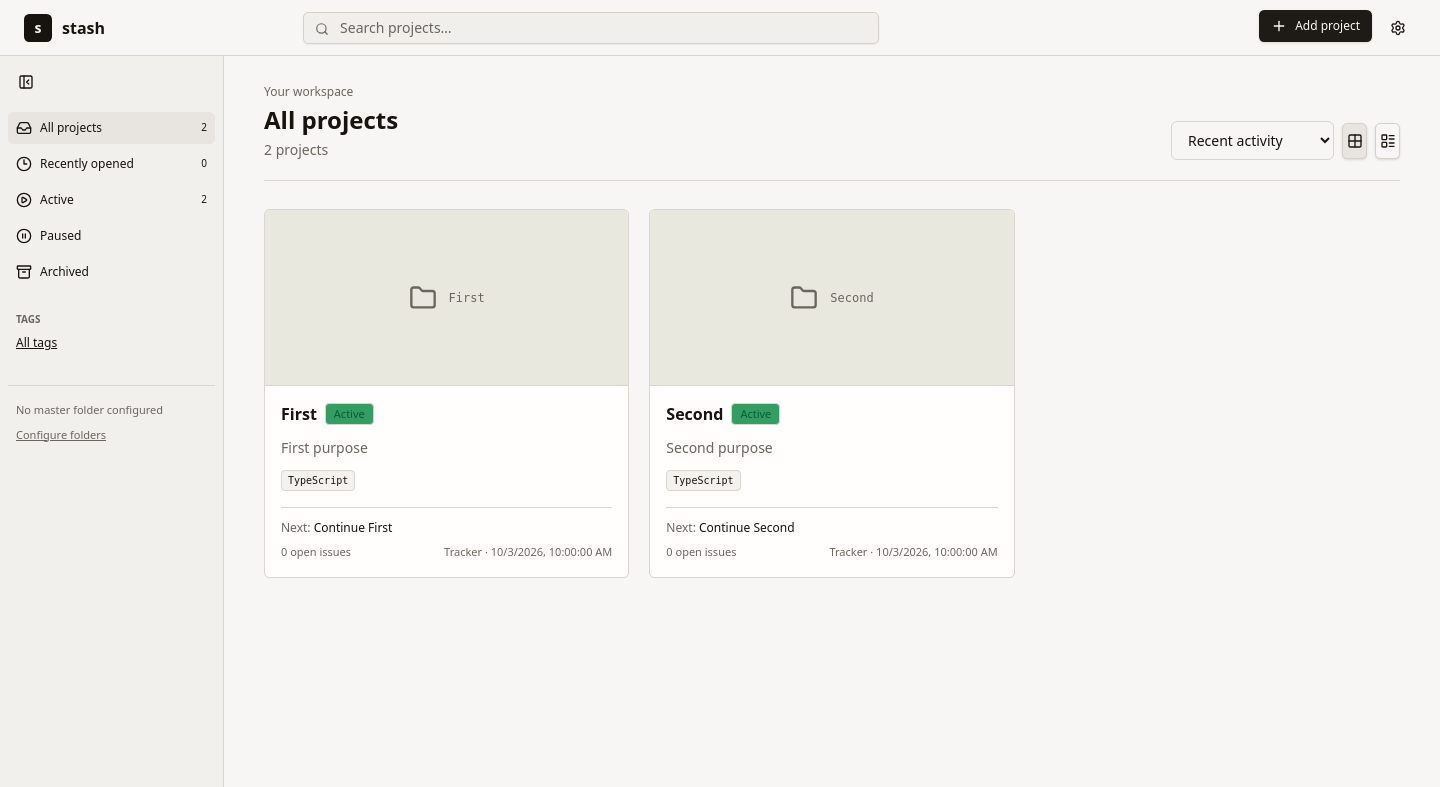
Test: Real workspace workflow › loads documentation scoped to the selected project
Click the button that starts with "Second" at (832, 298), box [649,209,1015,578]
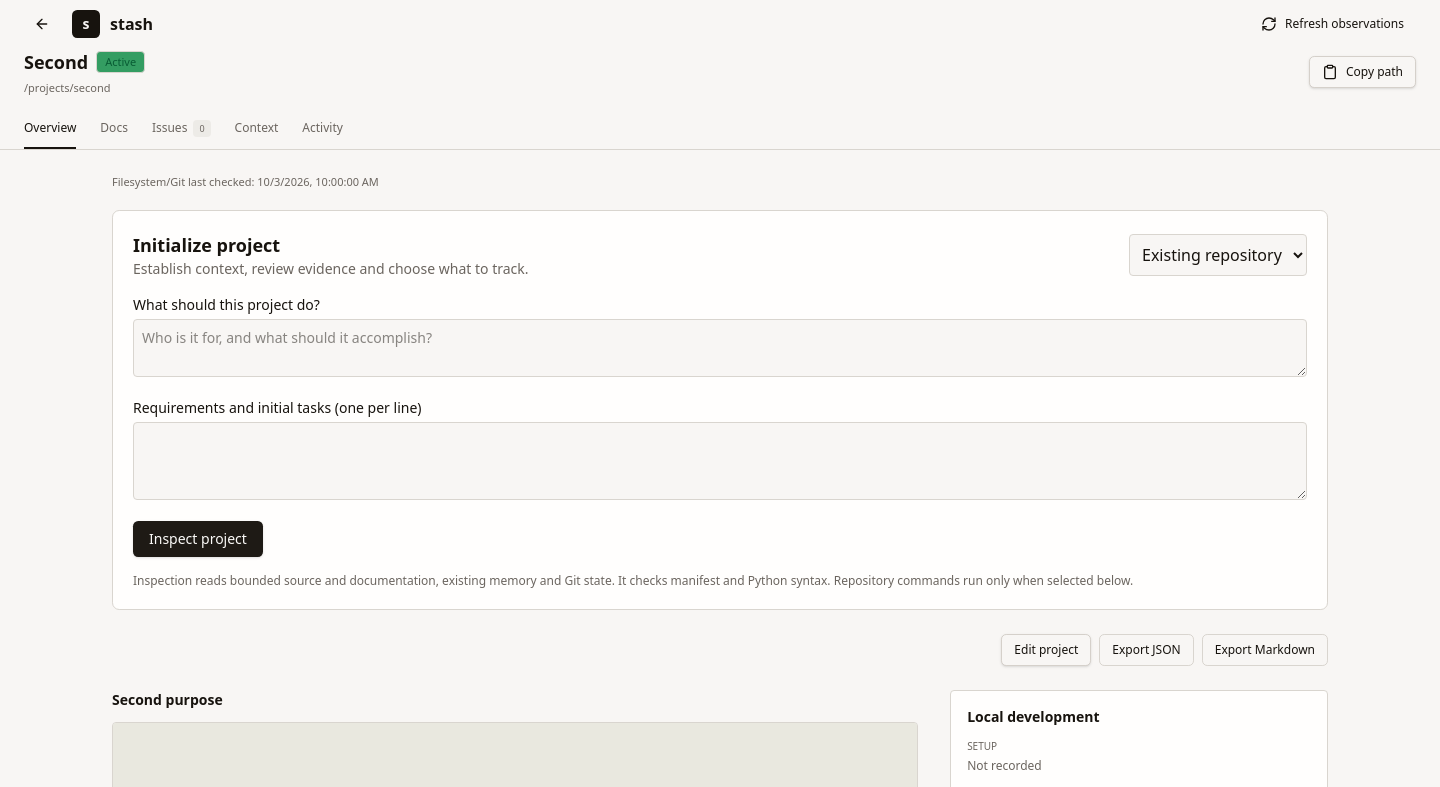
Now the heading "Second" is shown, box [24,48,88,76]
Click the button "Docs" at (114, 128), box [100,108,128,148]
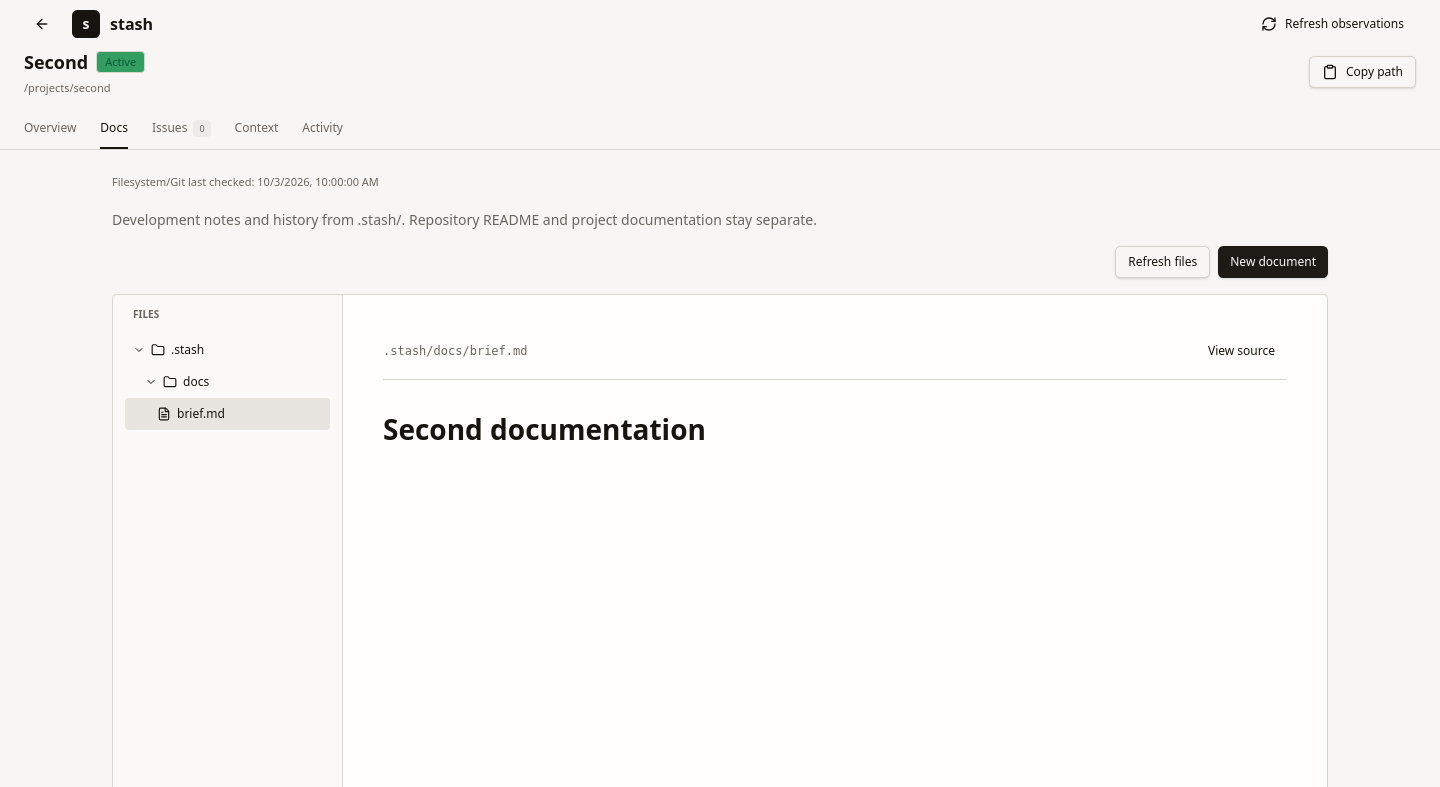
Now the heading "Second documentation" is shown, box [383,410,706,448]
Now the button "brief.md" is shown, box [125,398,330,430]
Click the button named "Back to projects" at (42, 24), box [24,6,60,42]
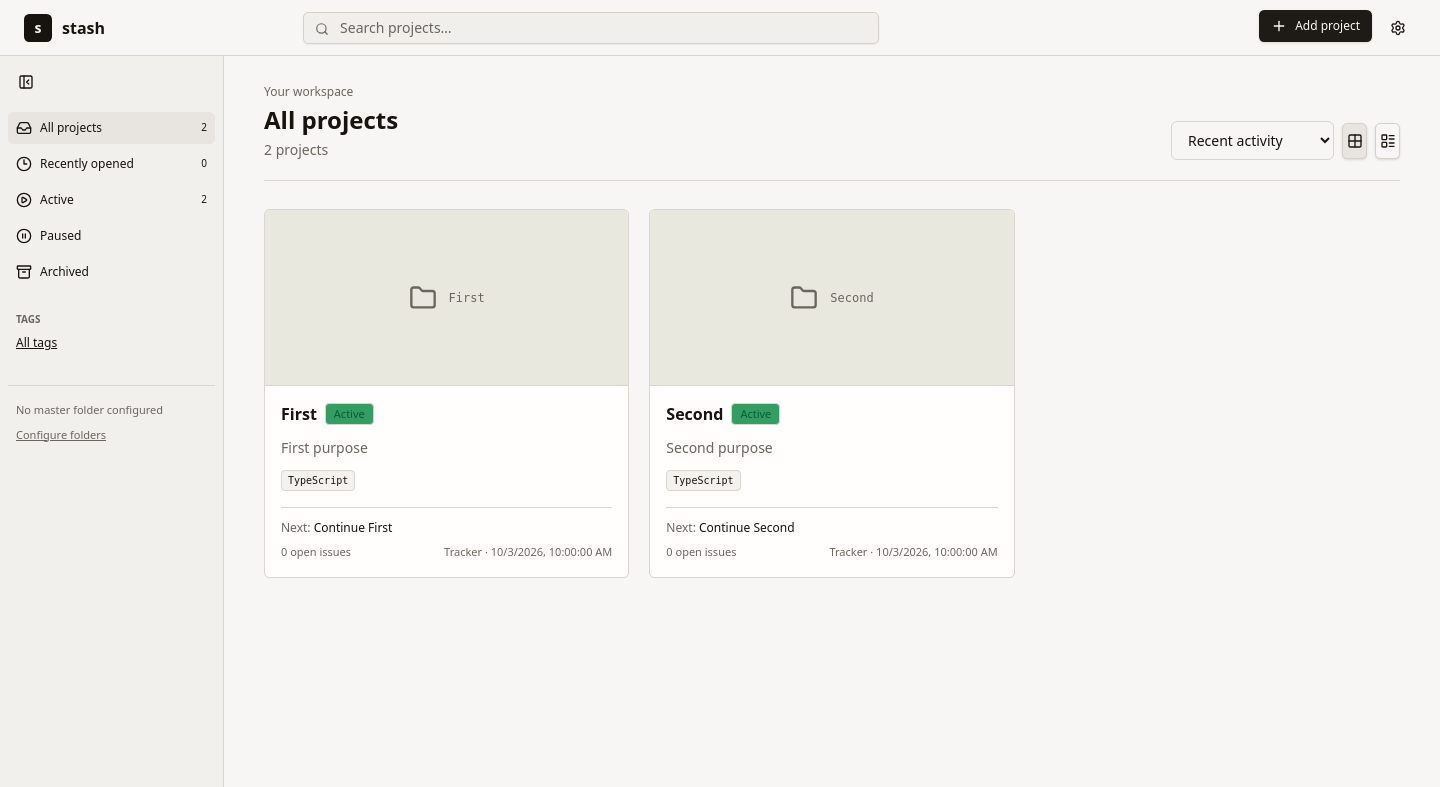
Now the heading "All projects" is shown, box [264,104,398,136]
